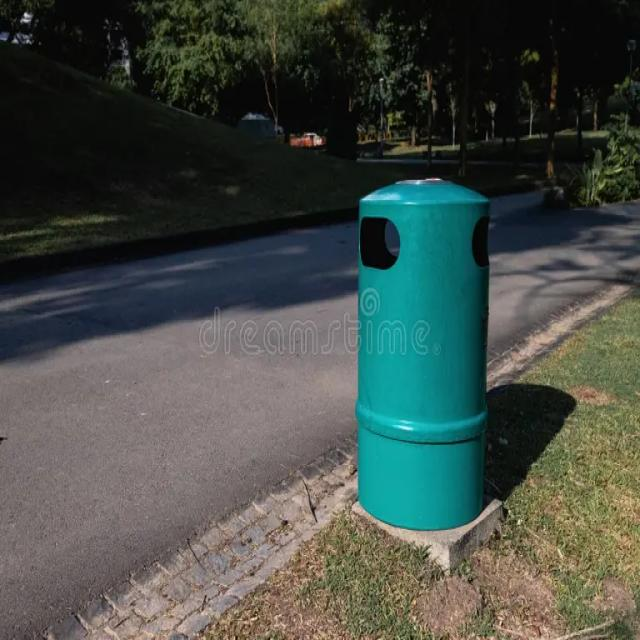bin_empty: (355, 179, 488, 529)
